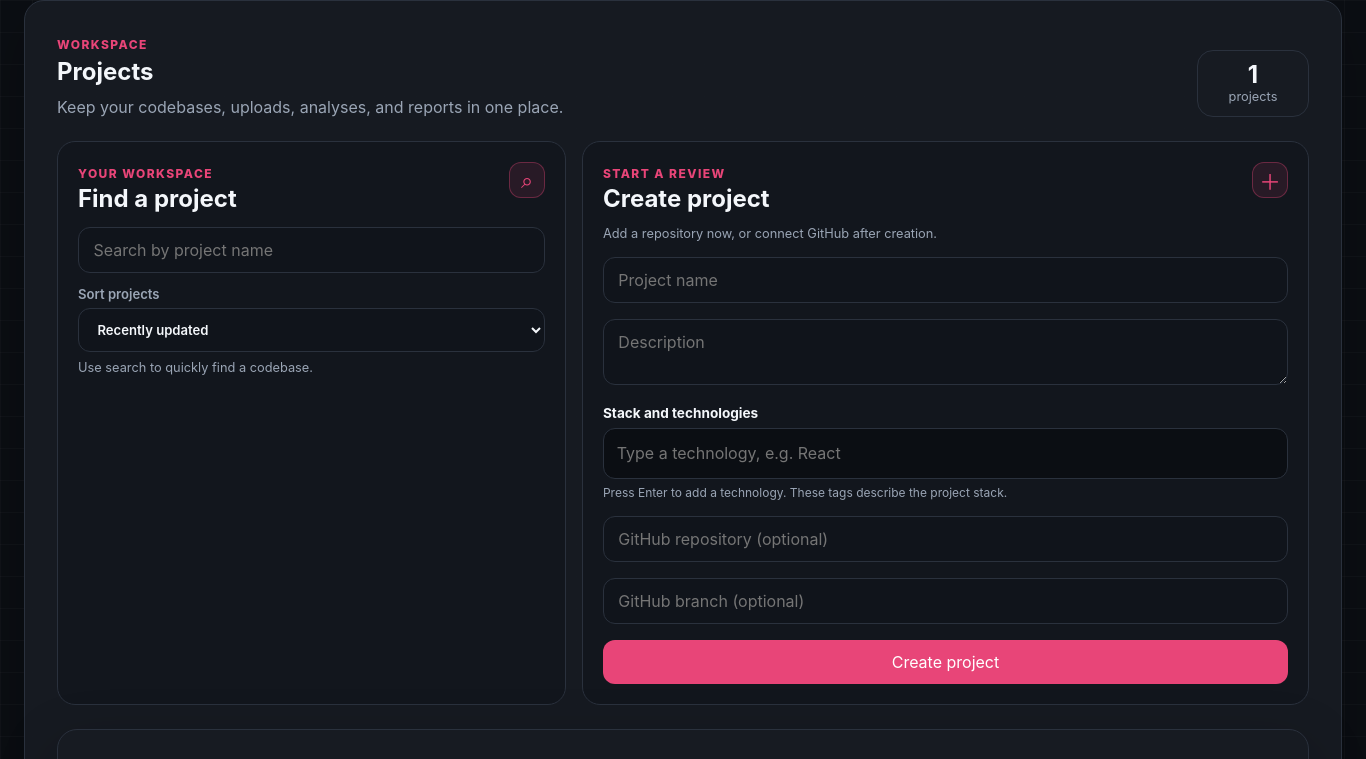
Test case: ProjectsPage › offers stack suggestions and renders selected technologies as removable chips
Focus the field named "Project technologies and tags" at (945, 453), box [613,436,1278,470]
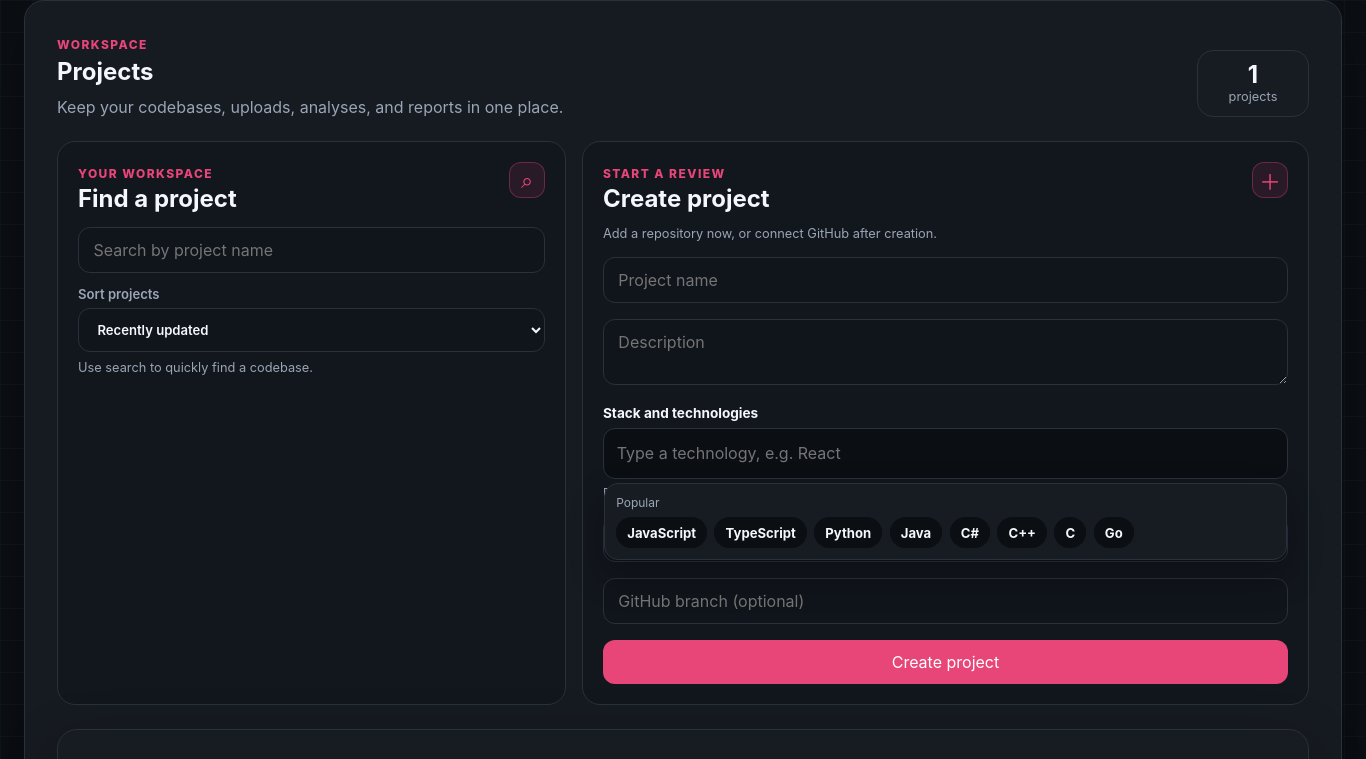
Now the list named "Technology suggestions" is shown, box [604,483,1287,560]
Type "React" into the field named "Project technologies and tags" at (945, 453), box [613,436,1278,470]
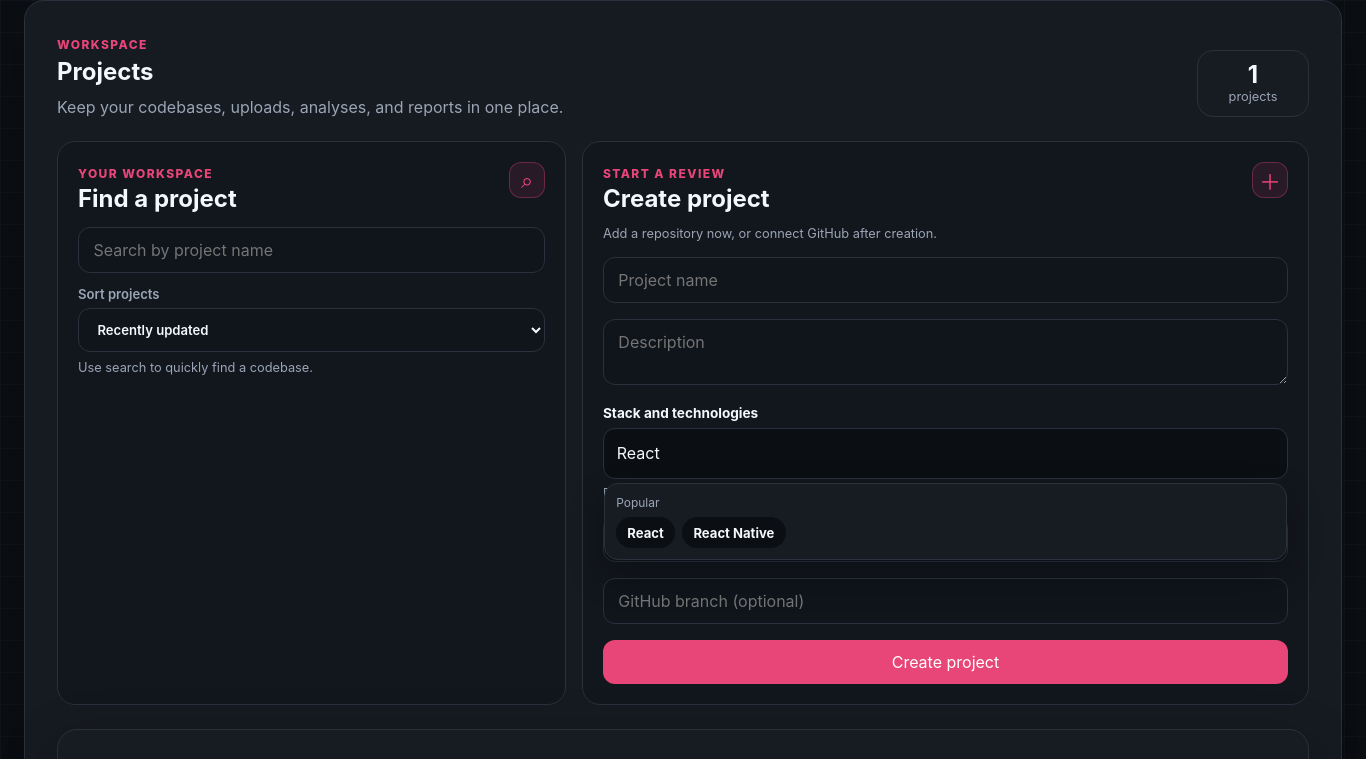
Press the mouse on the button "React" at (646, 533), box [616,518,675,548]
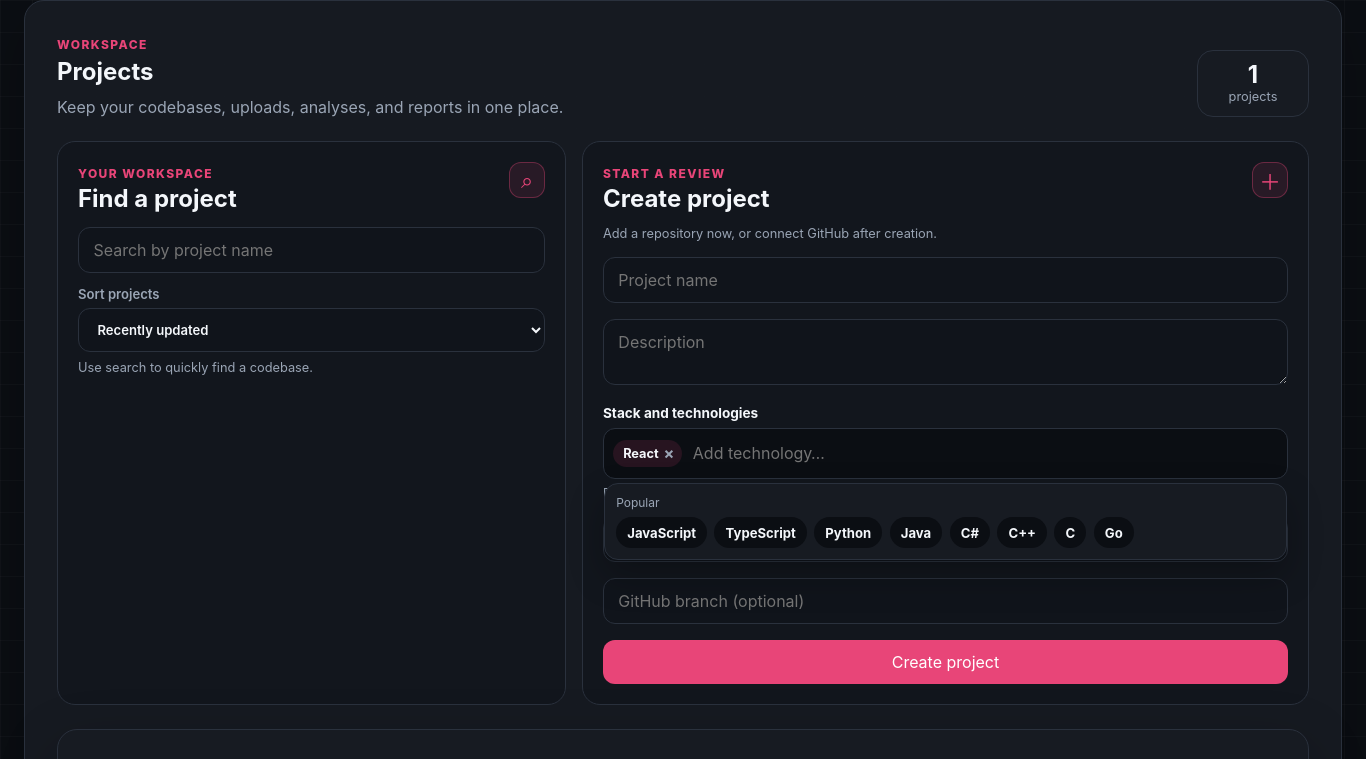
Now the text "React" is shown, box [623,446,659,461]
Now the button named "Remove React" is shown, box [664,445,674,461]
